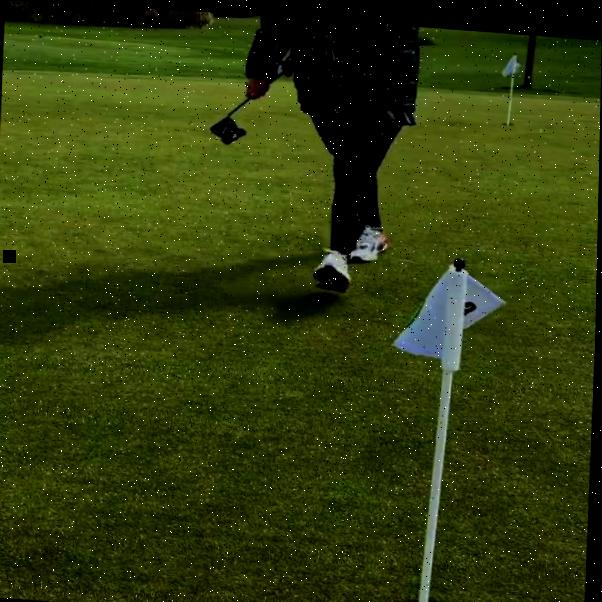ClubHead: (211, 114, 248, 143)
